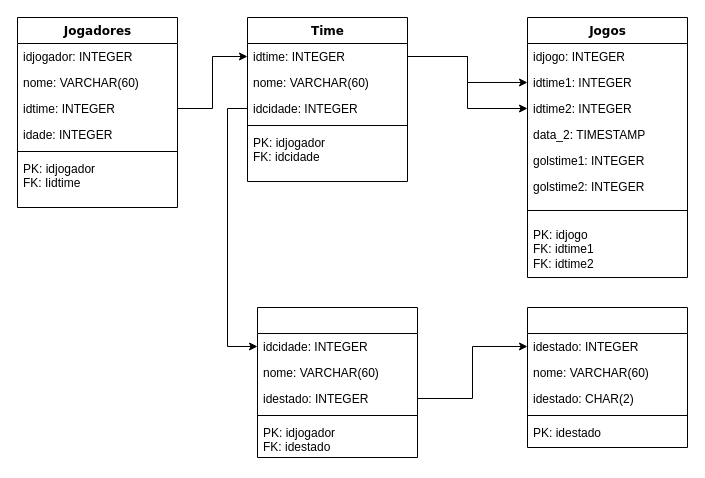
Some shapes in this 705 by 478 pixel diagram are drawn without their labels. The shapes that lost their labels are listed below. From the top down, each one's box as (x1, y1, x2, y2) in pixels, then its label:
(256, 306, 418, 458): Cidades
(526, 306, 688, 448): Estados
